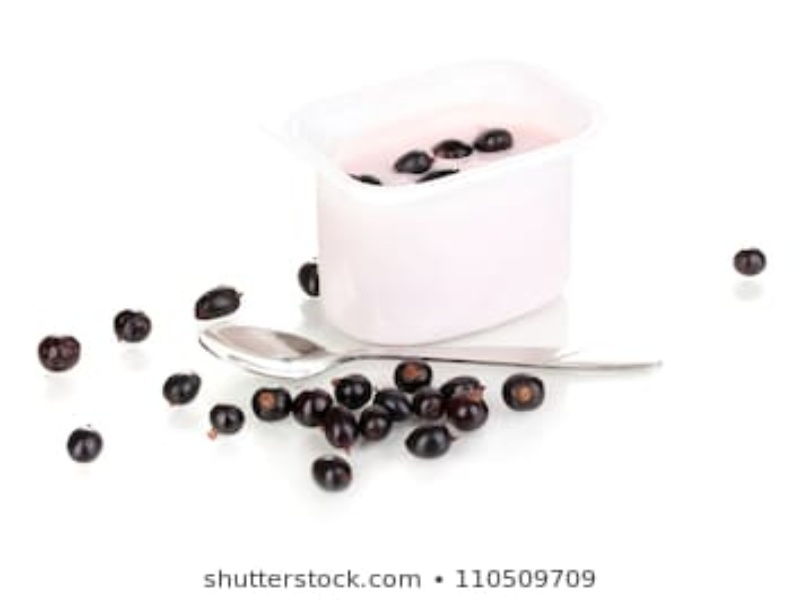yogurt-cup: (278, 51, 616, 345)
